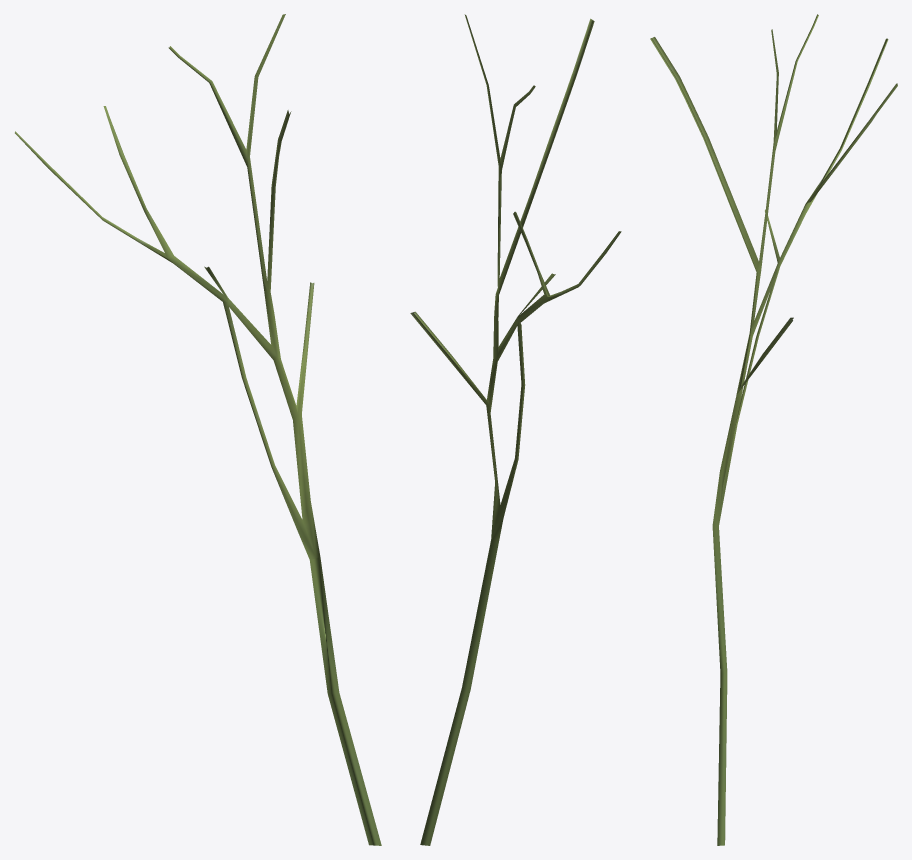
Rendered from flower_yellow_shadow.glb.
The picture shows the model from 3 angles, left to right: view 1: azimuth 30°, elevation 25°; view 2: azimuth 150°, elevation 25°; view 3: azimuth 270°, elevation 25°; orthographic projection. The views are drawn at different scales.
Visible parts, largest first — view 1: bq_Flower_Bunias-orientalis_A_summer; view 2: bq_Flower_Bunias-orientalis_A_summer; view 3: bq_Flower_Bunias-orientalis_A_summer.
Part boxes in pixels (x1,y1,x2,y2): bq_Flower_Bunias-orientalis_A_summer: (15, 14, 381, 845); bq_Flower_Bunias-orientalis_A_summer: (410, 14, 621, 845); bq_Flower_Bunias-orientalis_A_summer: (650, 14, 897, 845).
Bounding box in the file's own units: 0.264 × 0.7505 × 0.2149.
Materials: 1 (1 with a texture image).
